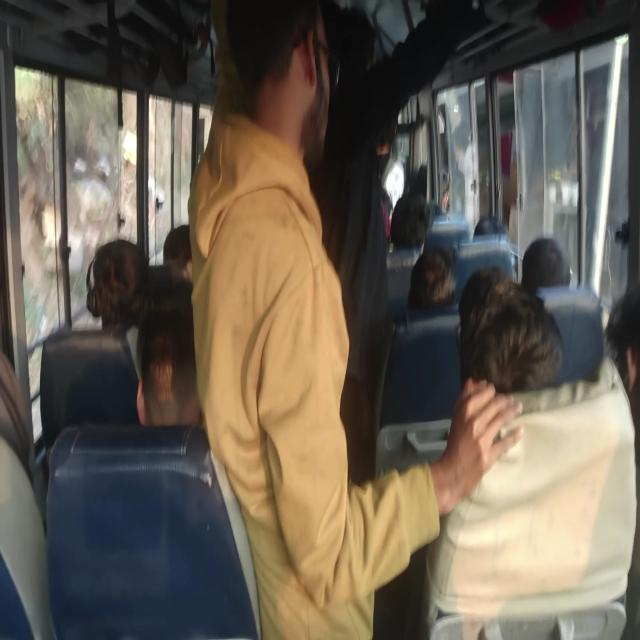person: (459, 269, 559, 428), (227, 23, 320, 172), (124, 292, 210, 433), (0, 353, 43, 622), (594, 284, 640, 503), (313, 7, 396, 113), (95, 234, 143, 334), (523, 230, 578, 290), (410, 241, 455, 314), (157, 208, 213, 266), (396, 184, 432, 250), (477, 215, 512, 253)
